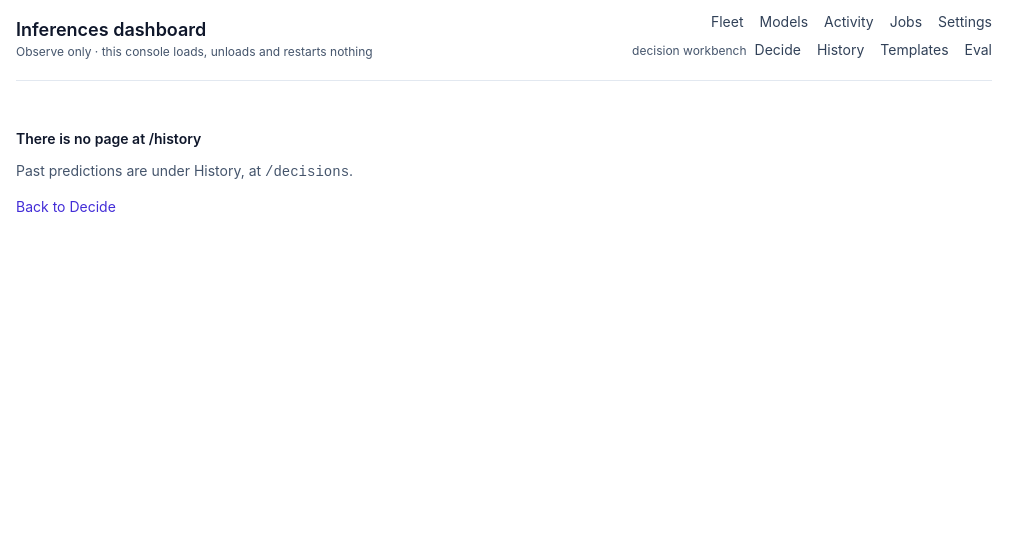
a path the dashboard does not have › offers the way back to Decide
This screenshot has width=1009, height=533.
Click the link "Back to Decide" at (66, 206), box [16,198,116,215]
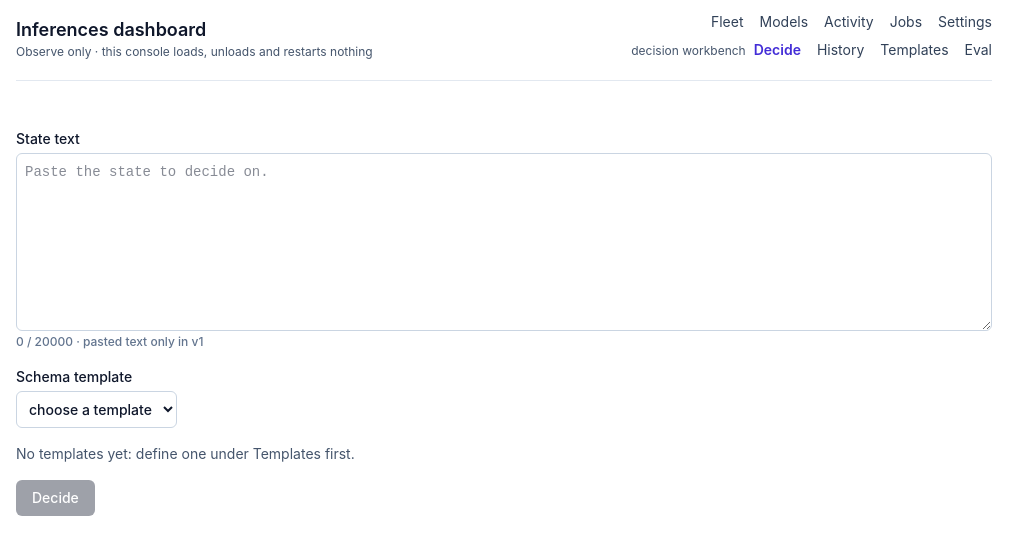
Expected: the form named "run a decision" is shown
